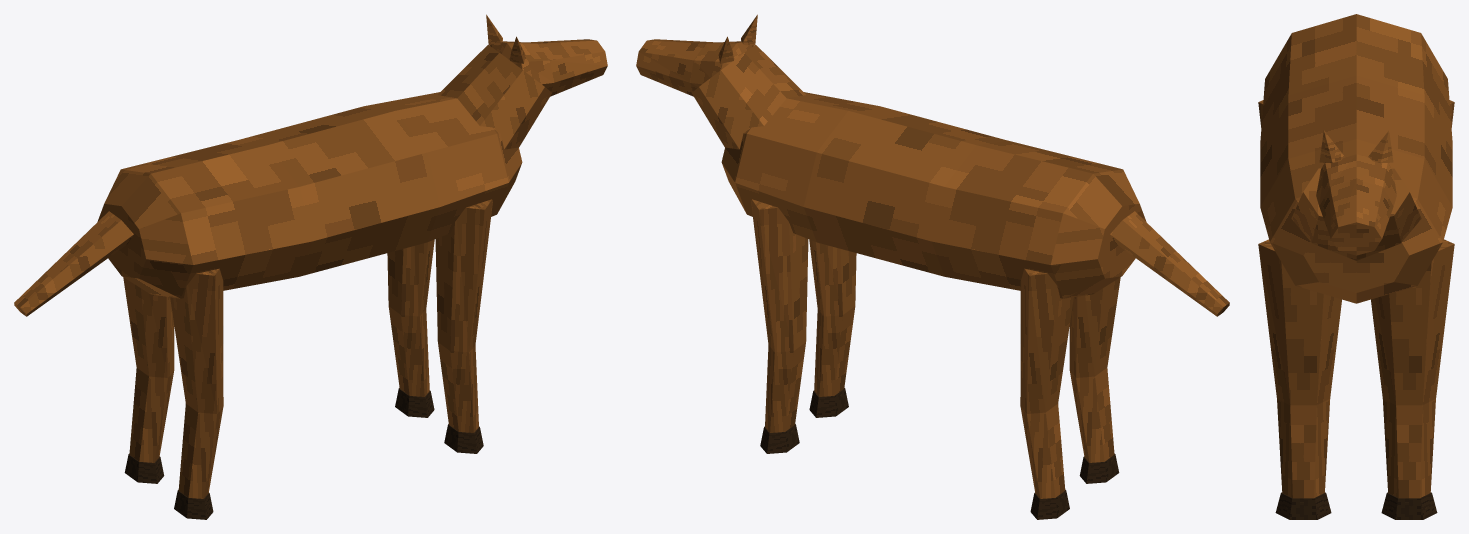
Rendered from perro_salvaje.glb.
The picture shows the model from 3 angles, left to right: view 1: azimuth 30°, elevation 25°; view 2: azimuth 150°, elevation 25°; view 3: azimuth 270°, elevation 25°; orthographic projection. The views are drawn at different scales.
Visible parts, largest first — view 1: cuerpo, pata_trasera_der, pata_delantera_der, pata_trasera_izq, cuello, pata_delantera_izq, cola, cabeza, pezuna_trasera_izq, pezuna_delantera_der, pezuna_delantera_izq, pezuna_trasera_der; view 2: cuerpo, pata_delantera_izq, pata_trasera_izq, pata_trasera_der, cuello, pata_delantera_der, cola, cabeza, pezuna_trasera_der, pezuna_delantera_izq, pezuna_delantera_der, pezuna_trasera_izq; view 3: cuerpo, pata_delantera_izq, pata_delantera_der, cabeza, cuello, pezuna_delantera_izq, pezuna_delantera_der, orejas.
Part boxes in pixels (<box>): cuerpo: <box>97,92,522,298</box>; pata_trasera_der: <box>170,268,223,498</box>; pata_delantera_der: <box>435,199,492,432</box>; pata_trasera_izq: <box>123,277,174,462</box>; cuello: <box>438,45,551,149</box>; pata_delantera_izq: <box>387,239,434,396</box>; cola: <box>14,211,133,316</box>; cabeza: <box>490,39,607,96</box>; pezuna_trasera_izq: <box>124,453,164,483</box>; pezuna_delantera_der: <box>444,424,483,453</box>; pezuna_delantera_izq: <box>395,388,434,417</box>; pezuna_trasera_der: <box>174,490,213,519</box>; cuerpo: <box>721,92,1146,298</box>; pata_delantera_izq: <box>751,199,808,432</box>; pata_trasera_izq: <box>1020,268,1073,498</box>; pata_trasera_der: <box>1069,277,1120,462</box>; cuello: <box>692,45,805,149</box>; pata_delantera_der: <box>809,239,856,396</box>; cola: <box>1110,211,1229,316</box>; cabeza: <box>636,39,753,96</box>; pezuna_trasera_der: <box>1079,453,1119,483</box>; pezuna_delantera_izq: <box>760,424,799,453</box>; pezuna_delantera_der: <box>809,388,848,417</box>; pezuna_trasera_izq: <box>1030,490,1069,519</box>; cuerpo: <box>1260,14,1452,303</box>; pata_delantera_izq: <box>1371,239,1454,498</box>; pata_delantera_der: <box>1258,239,1341,498</box>; cabeza: <box>1316,154,1396,255</box>; cuello: <box>1291,167,1421,260</box>; pezuna_delantera_izq: <box>1381,492,1437,519</box>; pezuna_delantera_der: <box>1275,492,1331,519</box>; orejas: <box>1319,130,1393,163</box>.
Bounding box in the file's own units: 1.1 × 0.7 × 0.3.
1 material, 1 textured.
